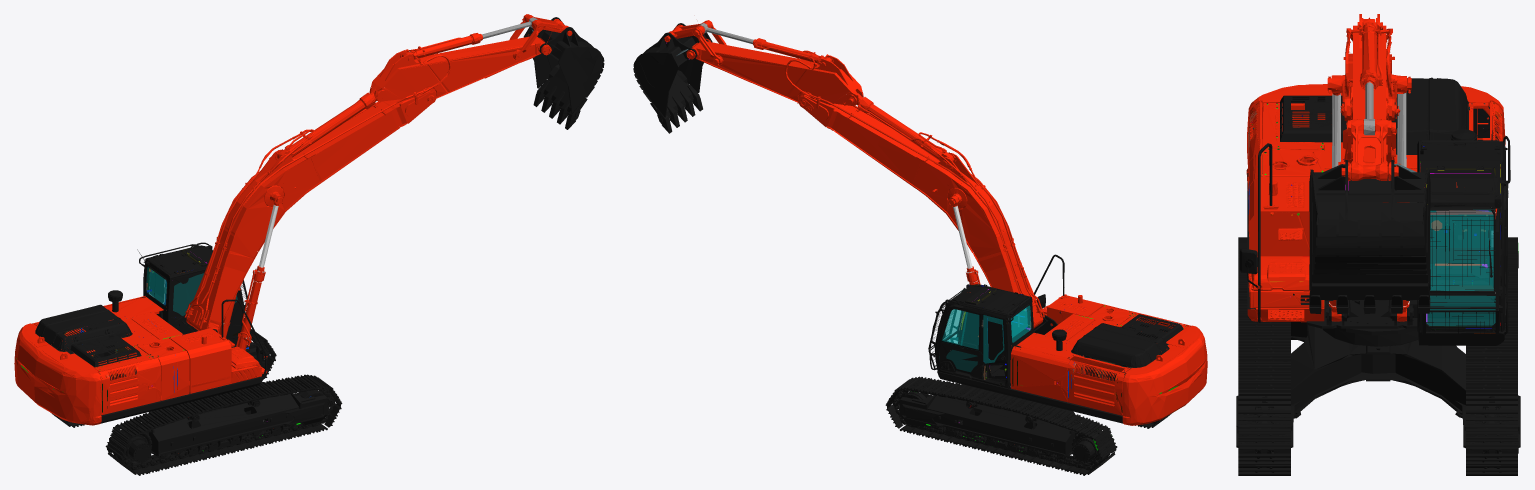
The model's file is engine.glb.
The picture shows the model from 3 angles, left to right: view 1: azimuth 30°, elevation 25°; view 2: azimuth 150°, elevation 25°; view 3: azimuth 270°, elevation 25°; orthographic projection. The views are drawn at different scales.
Visible parts, largest first — view 1: Compound; view 2: Compound; view 3: Compound.
Part boxes in pixels (bbox=[...]): Compound: bbox=[14, 14, 604, 475]; Compound: bbox=[633, 20, 1207, 475]; Compound: bbox=[1236, 14, 1520, 475].
Bounding box in the file's own units: 0.0126 × 0.00709 × 0.00324.
